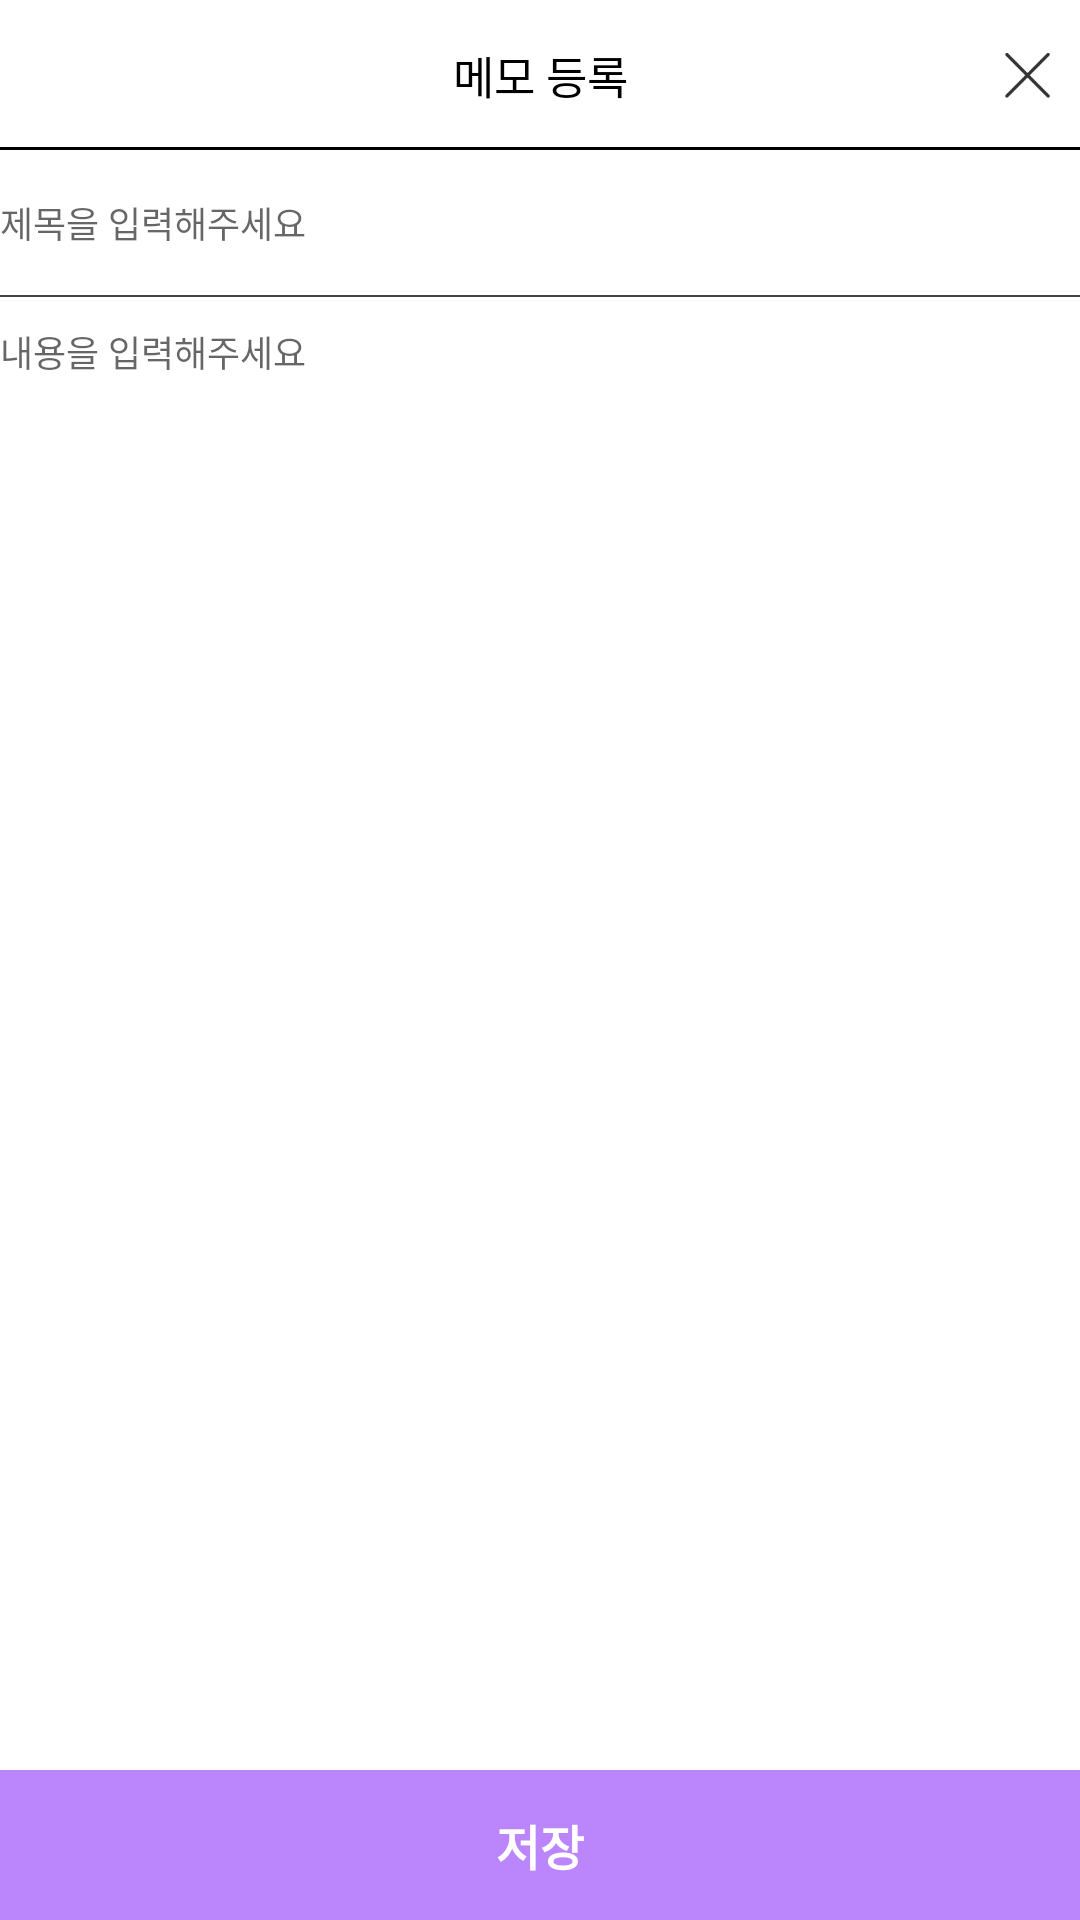

Where to tap for icons on this 1080x1920 app screen, as point (x, y):
close: point (1027, 75)
